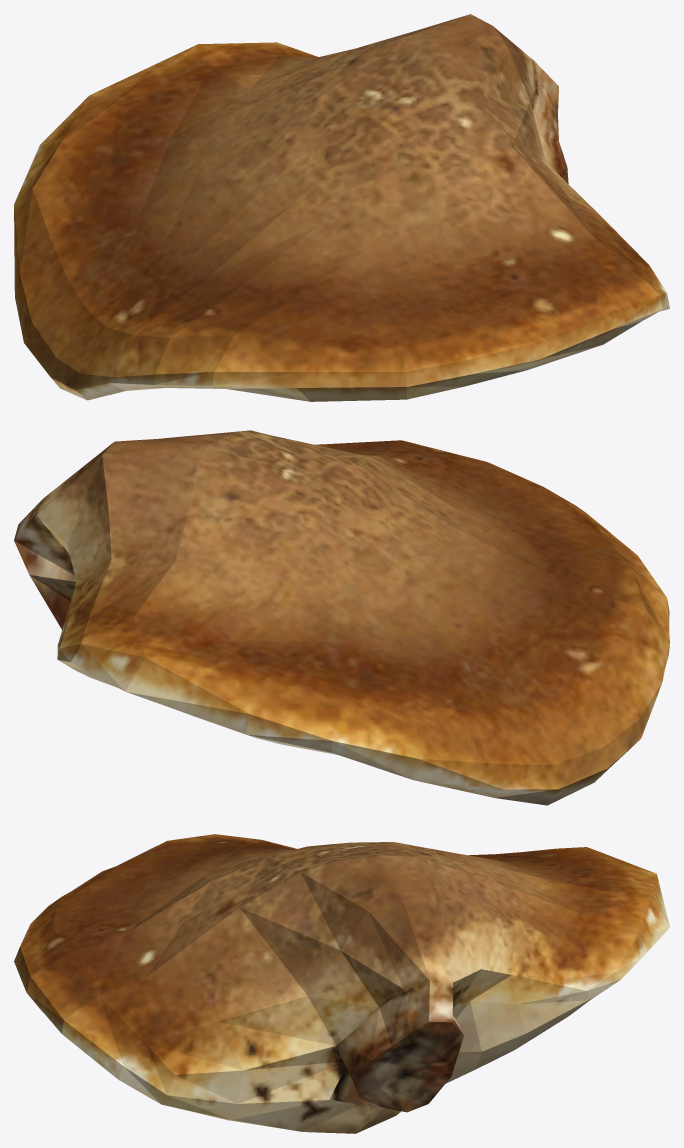
File: P_Lingzhi_02.obj
The picture shows the model from 3 angles, top to bottom: view 1: azimuth 30°, elevation 25°; view 2: azimuth 150°, elevation 25°; view 3: azimuth 270°, elevation 25°; orthographic projection. The views are drawn at different scales.
Bounding box in the file's own units: 0.5278 × 0.2388 × 0.5826.
1 material, 1 textured.
